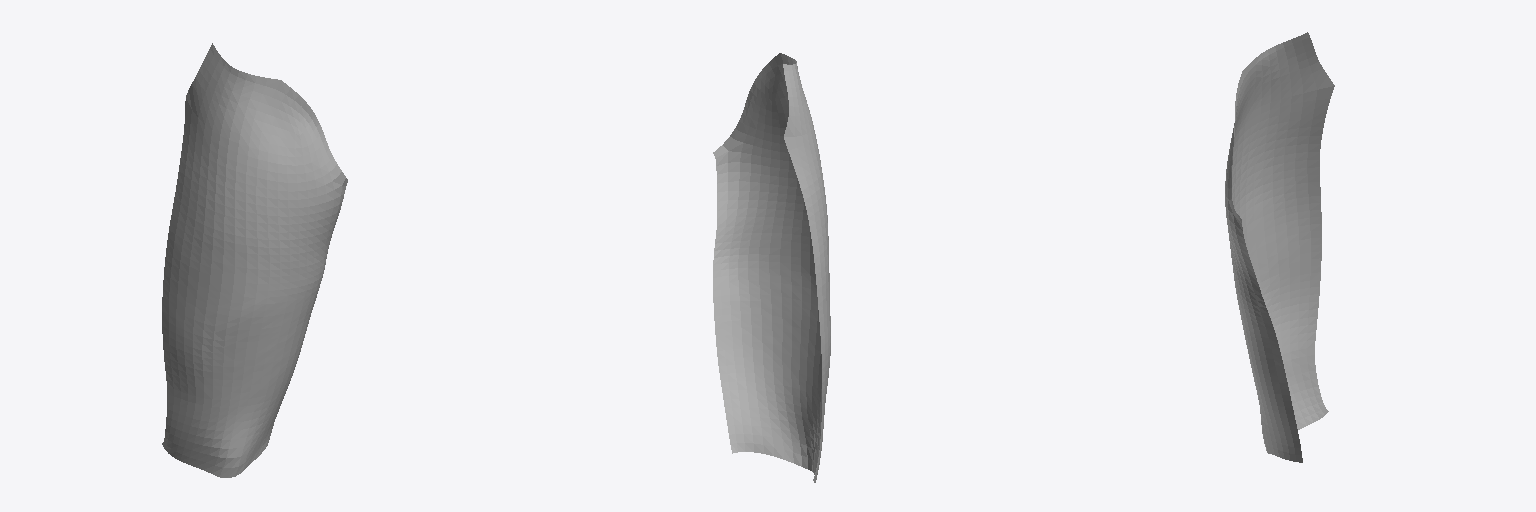
The model's file is right_quad.obj.
3 views of the same model, side by side, from view 1: azimuth 30°, elevation 25°; view 2: azimuth 150°, elevation 25°; view 3: azimuth 270°, elevation 25° (orthographic).
Parts seen in each view (by area): view 1: 000_Male_base_-_piece_3; view 2: 000_Male_base_-_piece_3; view 3: 000_Male_base_-_piece_3.
Part boxes in pixels (x1,y1,x2,y2): 000_Male_base_-_piece_3: (162, 43, 347, 477); 000_Male_base_-_piece_3: (713, 53, 830, 482); 000_Male_base_-_piece_3: (1225, 32, 1334, 462).
Size of the model in its own units: 2.04 by 5.56 by 1.32.